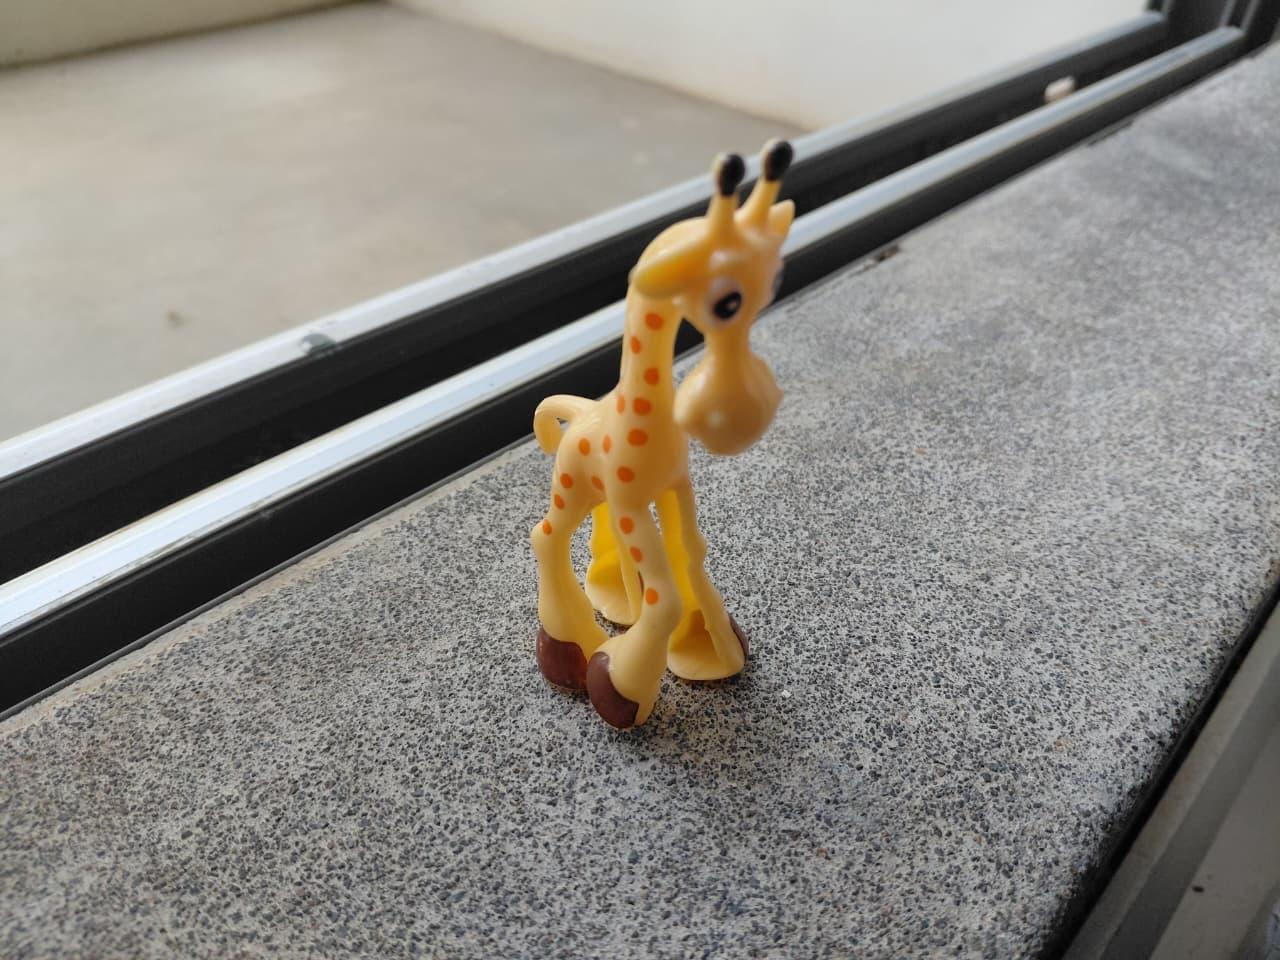giraffe: (520, 101, 890, 765)
